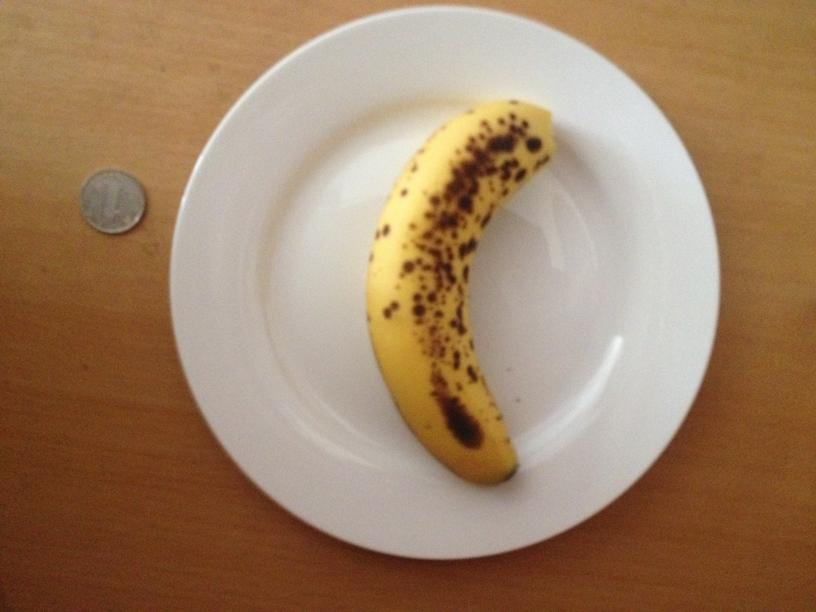banana: (368, 101, 555, 486)
coin: (79, 167, 147, 234)
